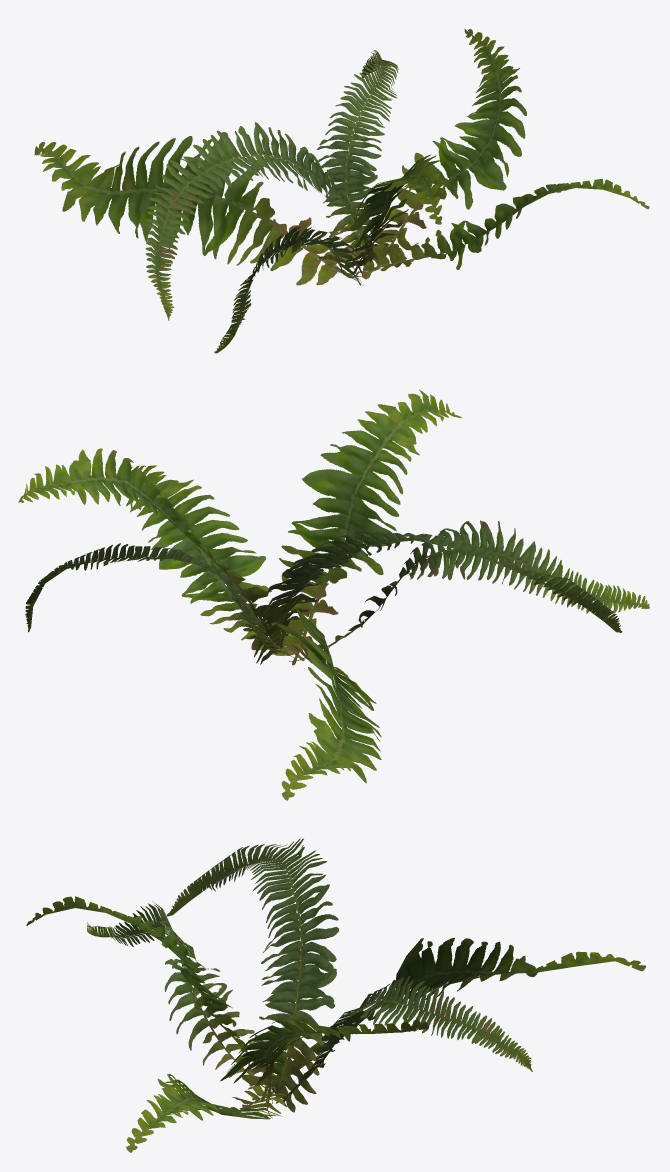
The picture shows the model from 3 angles, top to bottom: view 1: azimuth 30°, elevation 25°; view 2: azimuth 150°, elevation 25°; view 3: azimuth 270°, elevation 25°; orthographic projection. The views are drawn at different scales.
Parts seen in each view (by area): view 1: fern_02__d_lod0; view 2: fern_02__d_lod0; view 3: fern_02__d_lod0.
Part boxes in pixels (x1,y1,x2,y2): fern_02__d_lod0: (34,29,649,353); fern_02__d_lod0: (18,389,649,800); fern_02__d_lod0: (26,838,645,1152).
Bounding box in the file's own units: 0.5728 × 0.2131 × 0.5933.
1 material, 1 textured.
